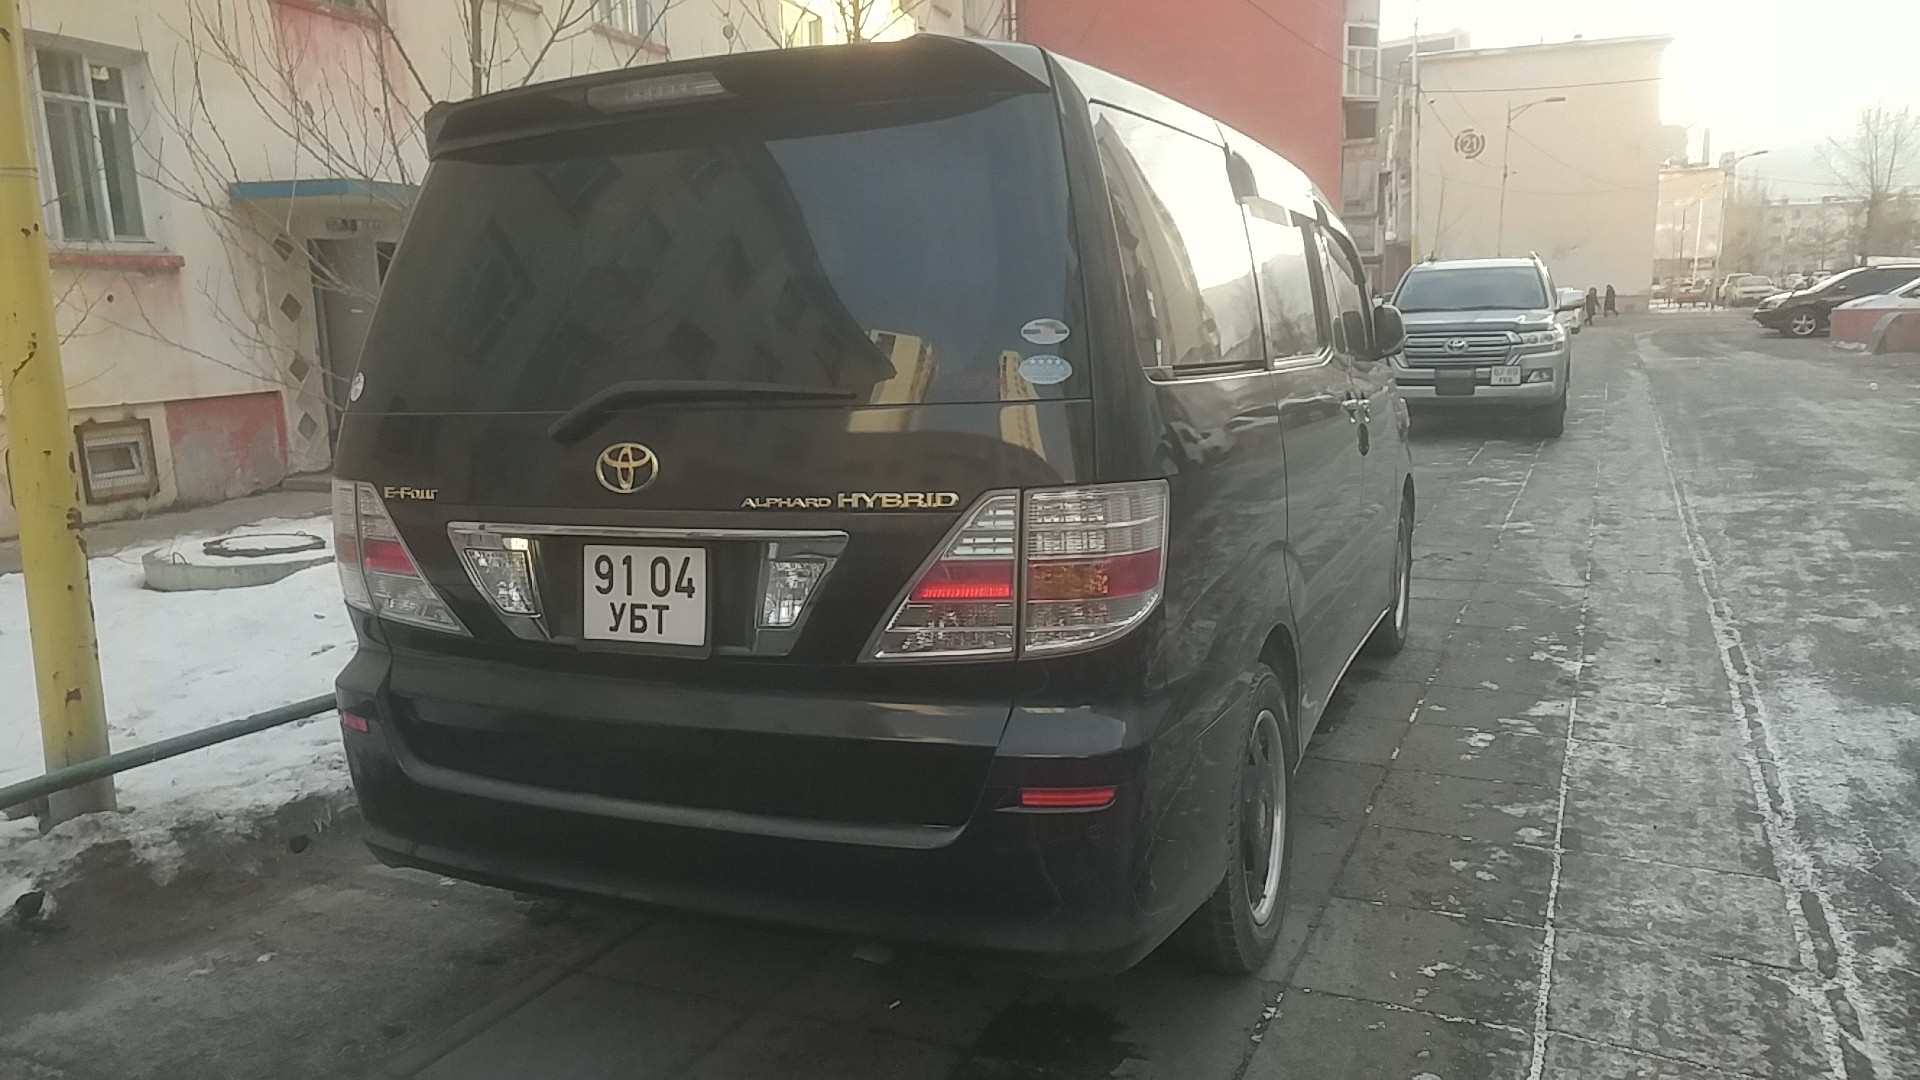0: (648, 554, 672, 597)
1: (620, 552, 634, 598)
4: (676, 554, 701, 602)
9: (593, 553, 616, 595)
b: (628, 602, 649, 634)
plate: (573, 533, 716, 655)
t: (649, 601, 672, 636)
u: (609, 600, 626, 633)
